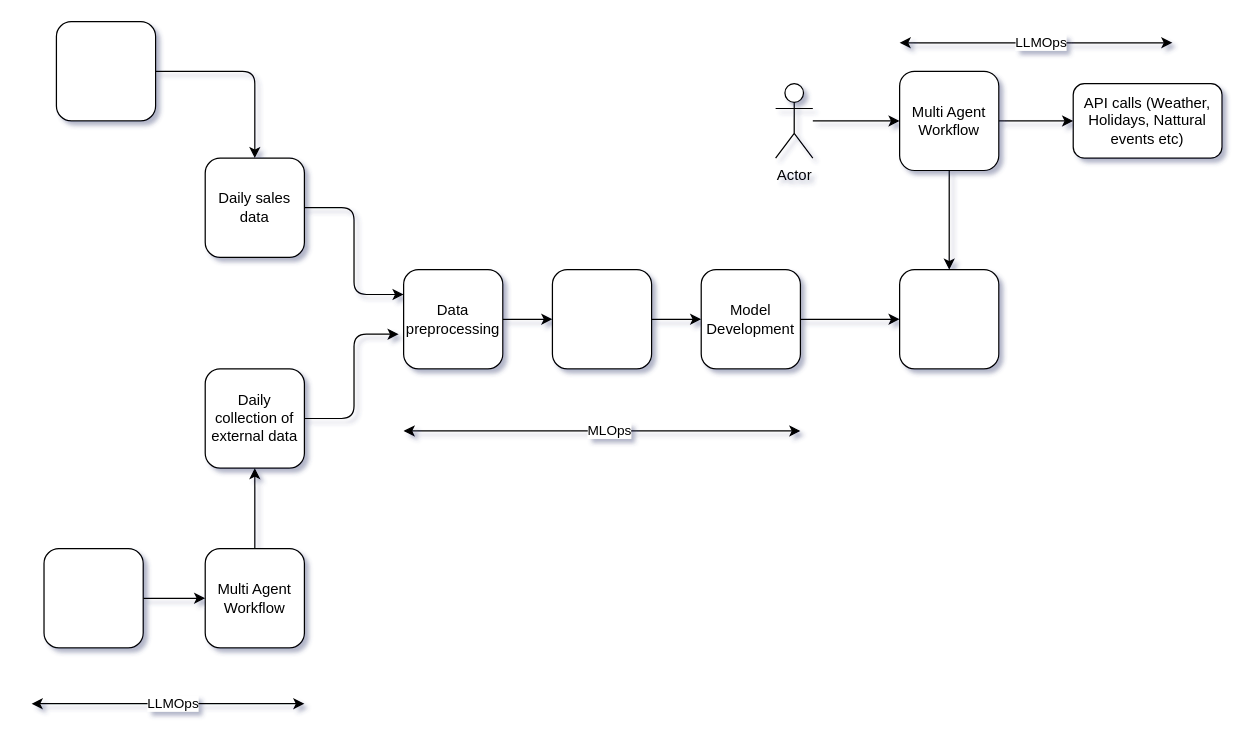
Image size: 1251x744. Some labels were removed from this diagram. The shapes that lost their labels are listed below. From the top down, each one's centre as x and y in pixels, then its label:
(105,70): Retail Stores
(601,318): Data preparation
(948,318): Inventory Model
(93,597): External events
